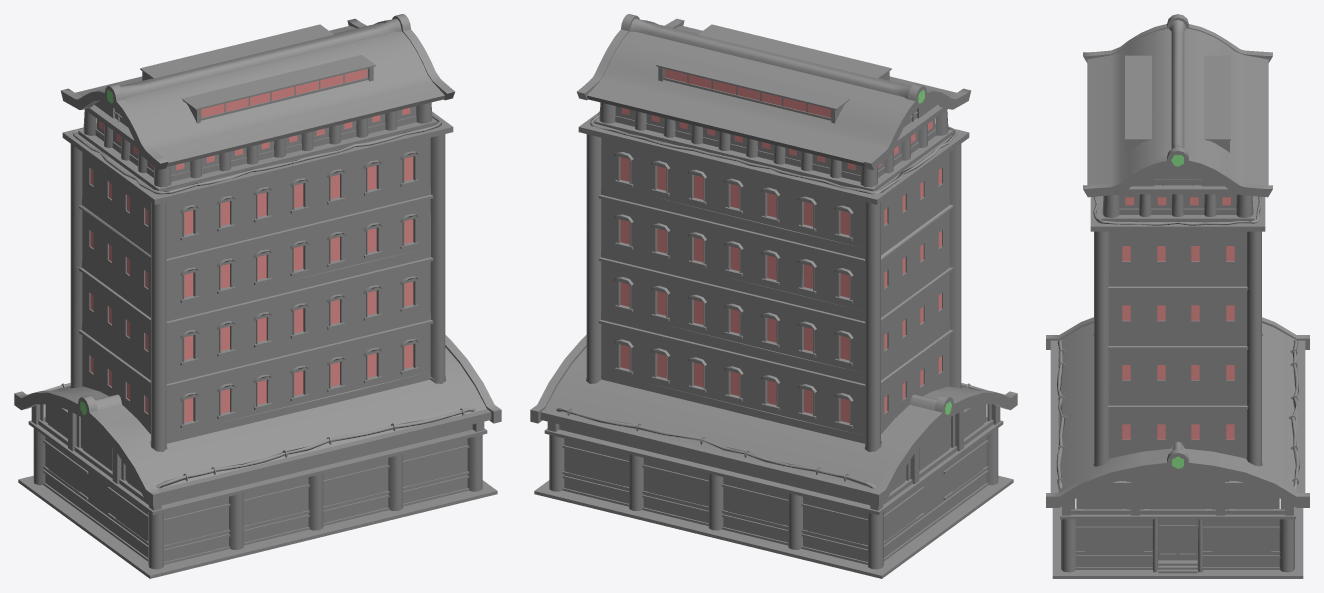
The model's file is SM_ENV_LKNVLD03_CommonBuilding_A.gltf.
3 renders of one model, left to right at view 1: azimuth 30°, elevation 25°; view 2: azimuth 150°, elevation 25°; view 3: azimuth 270°, elevation 25°, orthographic. The views are drawn at different scales.
Visible parts, largest first — view 1: SM_ENV_LKNVLD03_CommonBuilding_A; view 2: SM_ENV_LKNVLD03_CommonBuilding_A; view 3: SM_ENV_LKNVLD03_CommonBuilding_A.
Part boxes in pixels (<box>): SM_ENV_LKNVLD03_CommonBuilding_A: <box>14,14,501,578</box>; SM_ENV_LKNVLD03_CommonBuilding_A: <box>530,14,1017,578</box>; SM_ENV_LKNVLD03_CommonBuilding_A: <box>1046,14,1309,578</box>.
Size of the model in its own units: 35.05 by 42 by 24.13.
